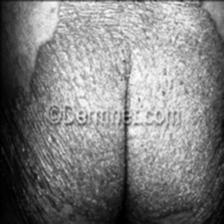Non-Cancerous Skin Condition: (0, 126, 224, 224), (22, 0, 224, 101)
